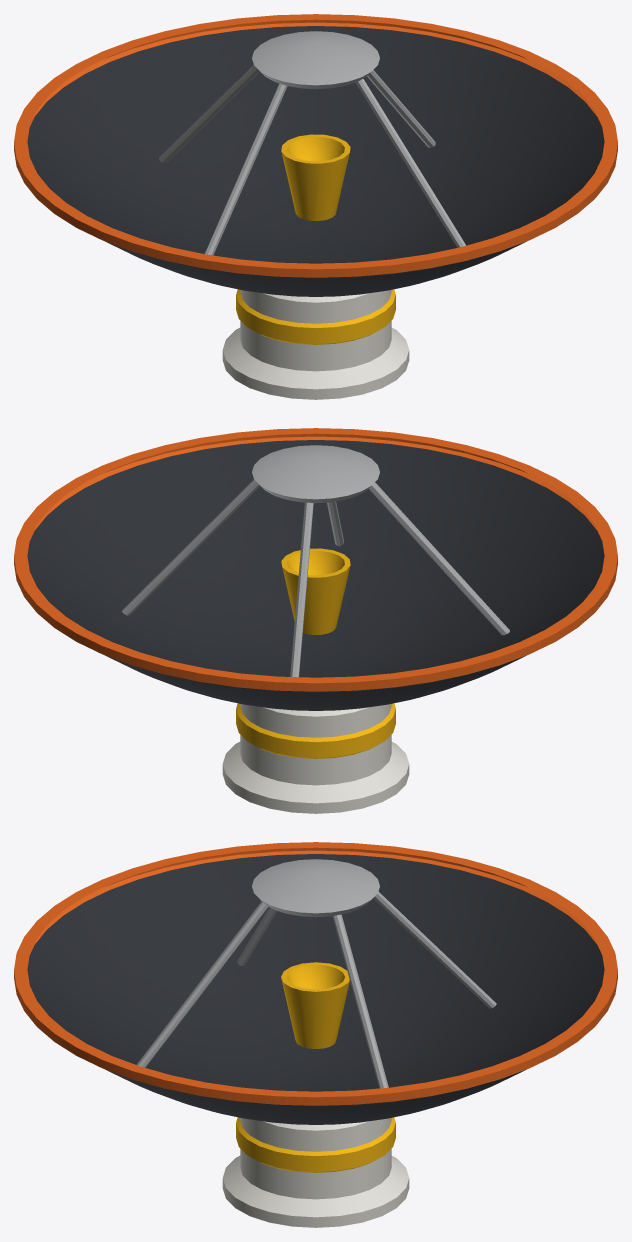
File: relay_dish.glb
3 views of the same model, one above another, from view 1: azimuth 30°, elevation 25°; view 2: azimuth 150°, elevation 25°; view 3: azimuth 270°, elevation 25° (orthographic).
Visible parts, largest first — view 1: Bowl.001, Rim.002, Drum.001, Struts.001, Subreflector, Horn, Band.002; view 2: Bowl.001, Rim.002, Drum.001, Struts.001, Subreflector, Horn, Band.002; view 3: Bowl.001, Rim.002, Drum.001, Struts.001, Subreflector, Horn, Band.002.
Boxes of the visible parts, box(x1,y1,x2,y2) form: Bowl.001: box(27, 26, 604, 296); Rim.002: box(14, 14, 617, 277); Drum.001: box(222, 290, 409, 399); Struts.001: box(159, 65, 465, 255); Subreflector: box(252, 31, 379, 89); Horn: box(281, 134, 350, 220); Band.002: box(236, 289, 395, 344); Bowl.001: box(27, 440, 604, 710); Rim.002: box(14, 428, 617, 691); Drum.001: box(222, 704, 409, 813); Struts.001: box(122, 479, 509, 677); Subreflector: box(252, 445, 379, 503); Horn: box(281, 548, 350, 634); Band.002: box(236, 703, 395, 758); Bowl.001: box(27, 854, 604, 1124); Rim.002: box(14, 842, 617, 1105); Drum.001: box(222, 1118, 409, 1227); Struts.001: box(137, 891, 496, 1088); Subreflector: box(252, 859, 379, 917); Horn: box(281, 962, 349, 1048); Band.002: box(236, 1117, 395, 1172).
Size of the model in its own units: 1.04 by 0.6 by 1.04.
